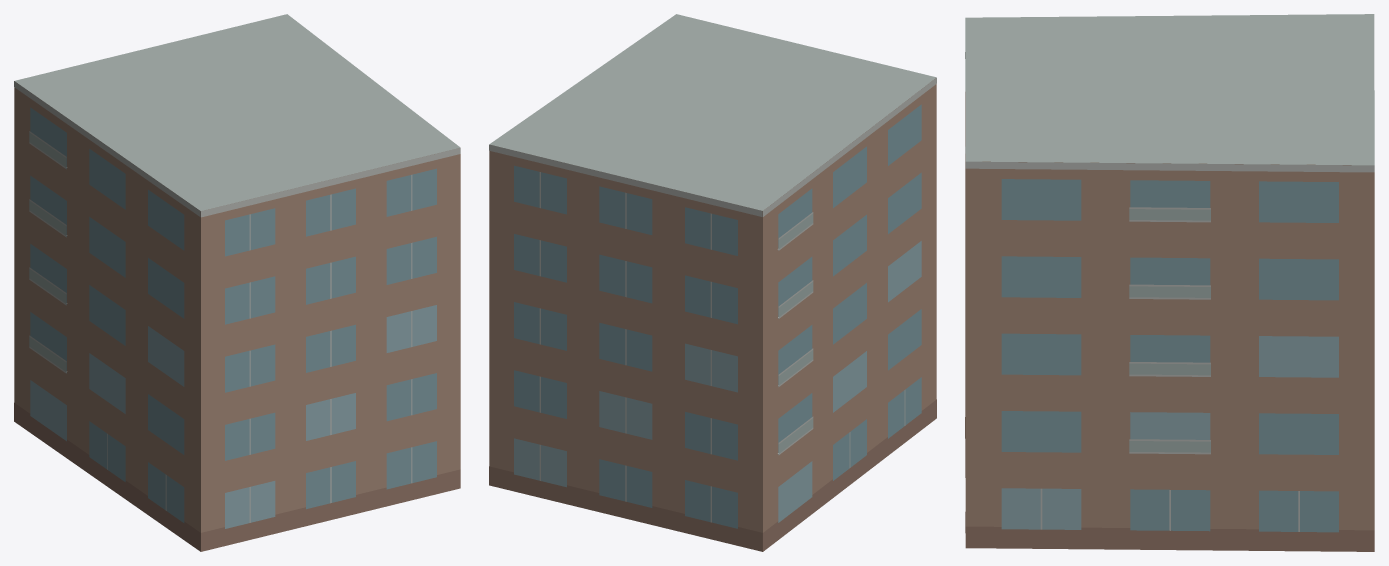
The model's file is survey-upis-32915048.glb.
The picture shows the model from 3 angles, left to right: view 1: azimuth 30°, elevation 25°; view 2: azimuth 150°, elevation 25°; view 3: azimuth 270°, elevation 25°; orthographic projection. The views are drawn at different scales.
Parts seen in each view (by area): view 1: survey-upis-32915048.tmp; view 2: survey-upis-32915048.tmp; view 3: survey-upis-32915048.tmp.
Part boxes in pixels (x1,y1,x2,y2): survey-upis-32915048.tmp: (14,14,460,551); survey-upis-32915048.tmp: (489,14,936,551); survey-upis-32915048.tmp: (965,14,1374,551).
Bounding box in the file's own units: 11.1 × 13.2 × 12.69.
